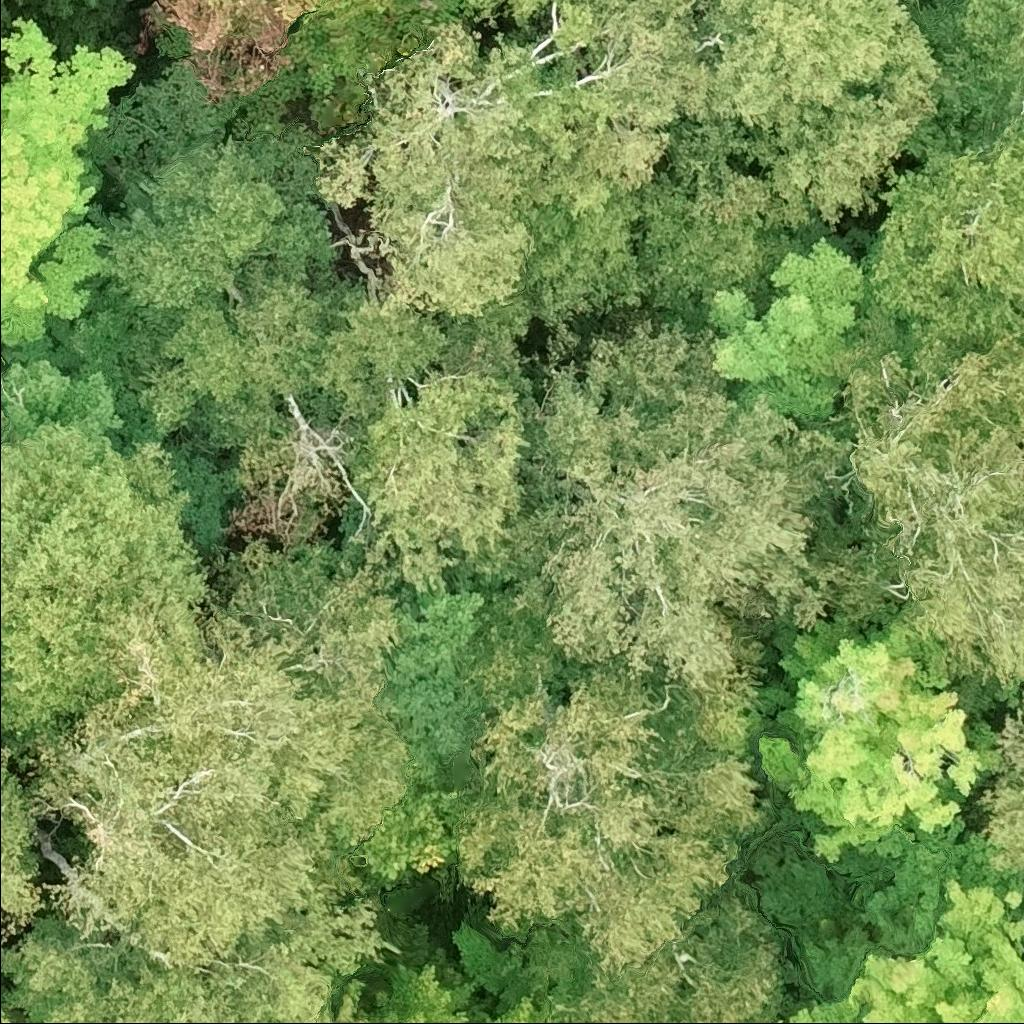crown: (24, 559, 421, 974), (501, 310, 901, 711), (451, 587, 766, 973), (312, 21, 675, 344), (549, 0, 944, 236), (818, 301, 1023, 718), (0, 418, 219, 770), (755, 615, 1002, 859), (751, 816, 1023, 1023), (344, 326, 545, 592), (0, 869, 337, 1023), (0, 14, 139, 358), (93, 127, 341, 317), (122, 257, 352, 443), (522, 889, 797, 1023), (859, 142, 1023, 349), (705, 237, 869, 425), (635, 166, 828, 323), (153, 0, 445, 101), (0, 277, 156, 444), (895, 0, 1023, 181), (383, 574, 488, 791), (309, 282, 460, 424), (378, 917, 502, 1023), (345, 781, 462, 889), (0, 745, 54, 944), (974, 692, 1023, 880), (332, 967, 400, 1023), (462, 0, 556, 27), (492, 995, 550, 1023), (0, 1000, 29, 1023), (203, 0, 230, 5)
